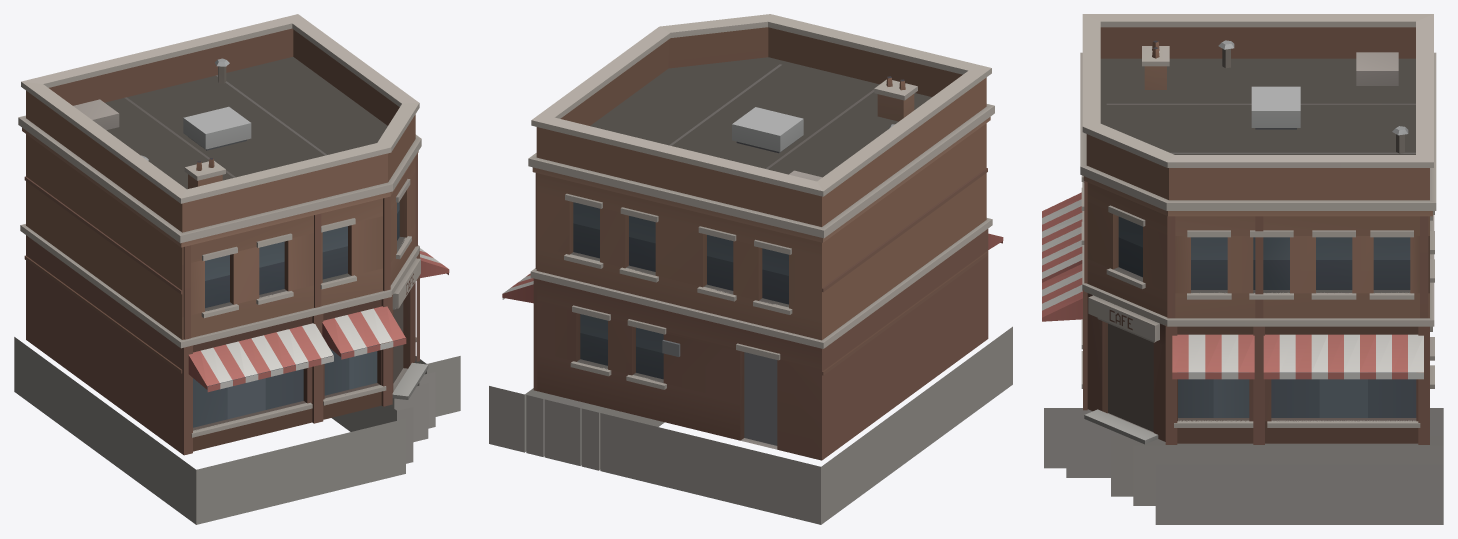
Rendered from corner.lod1.glb.
3 renders of one model, left to right at view 1: azimuth 30°, elevation 25°; view 2: azimuth 150°, elevation 25°; view 3: azimuth 270°, elevation 25°, orthographic. The views are drawn at different scales.
Bounding box in the file's own units: 8.96 × 8.5 × 9.02.
